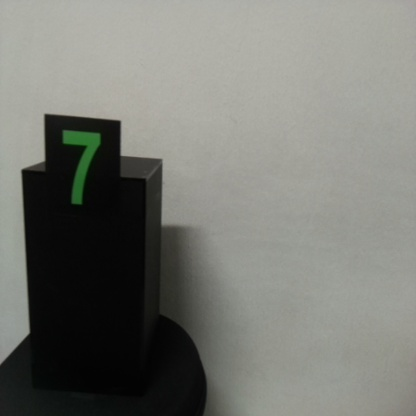id_7: (44, 115, 121, 244)
